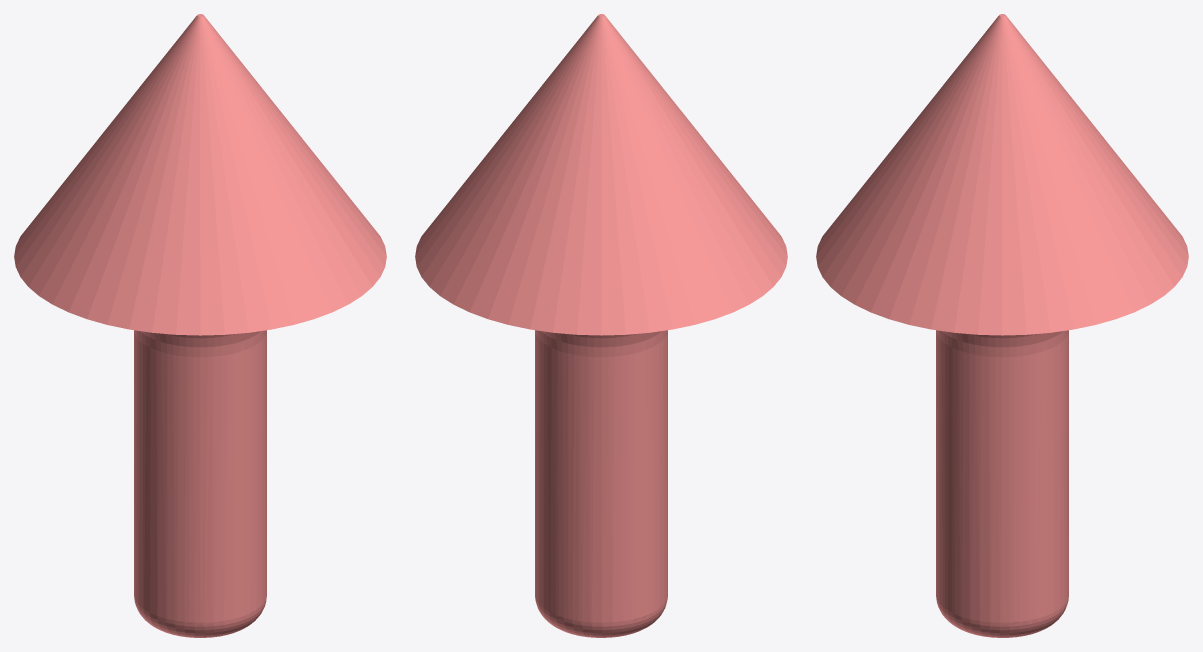
The model's file is arrow.dae.
The picture shows the model from 3 angles, left to right: view 1: azimuth 30°, elevation 25°; view 2: azimuth 150°, elevation 25°; view 3: azimuth 270°, elevation 25°; orthographic projection.
Visible parts, largest first — view 1: <STL_BINARY>; view 2: <STL_BINARY>; view 3: <STL_BINARY>.
Part boxes in pixels (<box>): <STL_BINARY>: <box>14,14,386,637</box>; <STL_BINARY>: <box>415,14,787,637</box>; <STL_BINARY>: <box>816,14,1188,637</box>.
Size of the model in its own units: 140 by 250 by 140.
